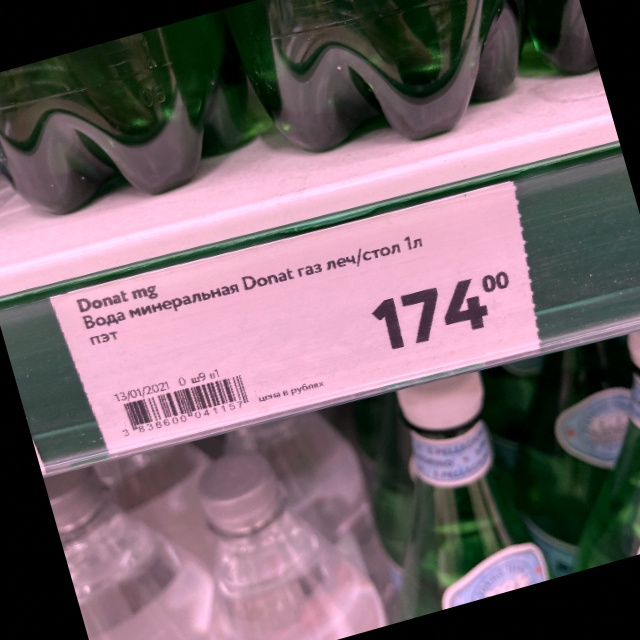barcode: (122, 373, 251, 442)
name: (75, 233, 426, 352)
price: (367, 263, 511, 362)
price_tag: (69, 178, 515, 468)
